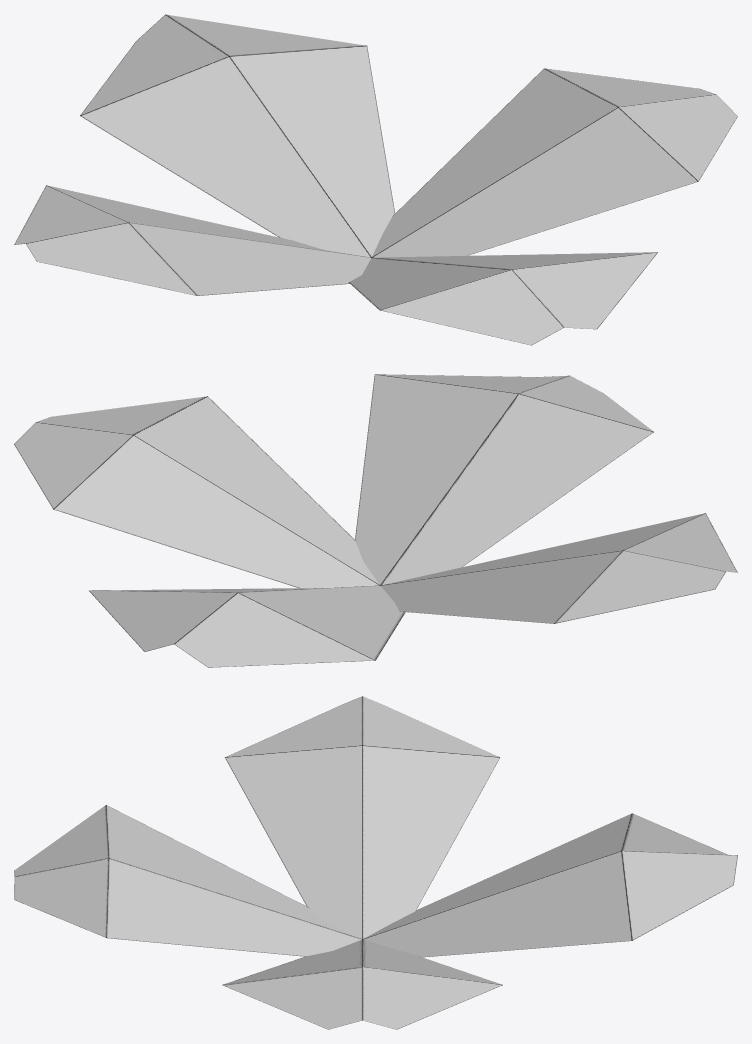
The model's file is Low_Poly_Plant1.fbx.
The picture shows the model from 3 angles, top to bottom: view 1: azimuth 30°, elevation 25°; view 2: azimuth 150°, elevation 25°; view 3: azimuth 270°, elevation 25°; orthographic projection. The views are drawn at different scales.
Visible parts, largest first — view 1: Plant1; view 2: Plant1; view 3: Plant1.
Part boxes in pixels (left/top/right/bottom): Plant1: left=14, top=14, right=737, bottom=345; Plant1: left=14, top=374, right=737, bottom=667; Plant1: left=14, top=696, right=737, bottom=1029.
Size of the model in its own units: 183 by 27.05 by 182.
